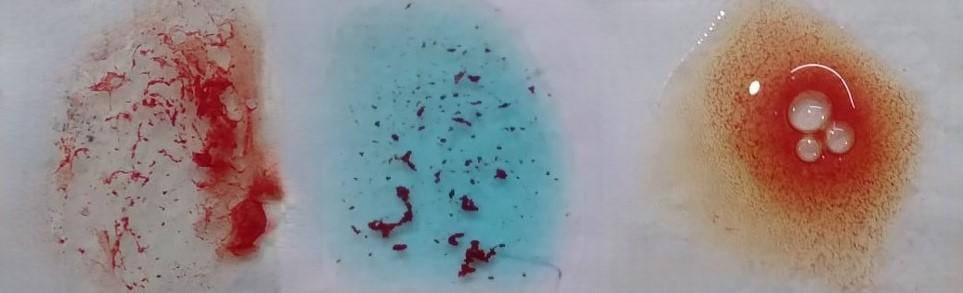A: (316, 6, 562, 293)
B: (696, 0, 906, 284)
D: (58, 7, 273, 285)
